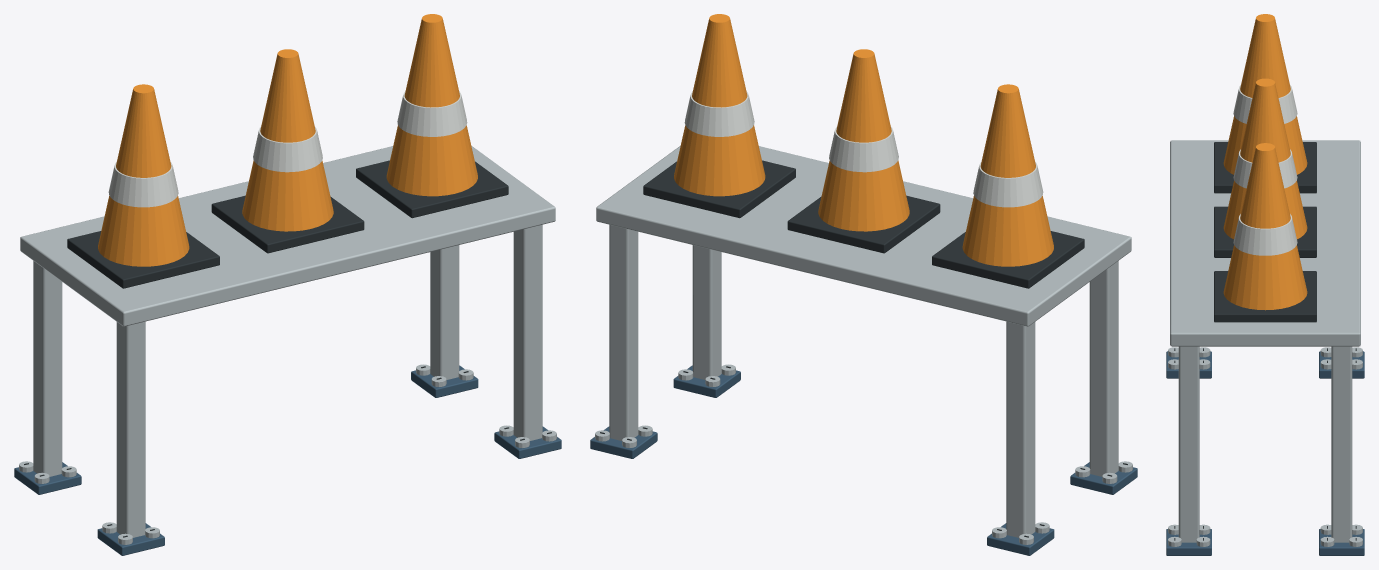
Rendered from container-inspection-and-customs-yard-container-inspec-daef00b1__29307.glb.
3 views of the same model, side by side, from view 1: azimuth 30°, elevation 25°; view 2: azimuth 150°, elevation 25°; view 3: azimuth 270°, elevation 25° (orthographic). The views are drawn at different scales.
Visible parts, largest first — view 1: container-inspection-and-customs-yard-road-cone-rack; view 2: container-inspection-and-customs-yard-road-cone-rack; view 3: container-inspection-and-customs-yard-road-cone-rack.
Part boxes in pixels (x1,y1,x2,y2): container-inspection-and-customs-yard-road-cone-rack: (14, 14, 561, 555); container-inspection-and-customs-yard-road-cone-rack: (590, 14, 1137, 555); container-inspection-and-customs-yard-road-cone-rack: (1166, 14, 1364, 555).
Size of the model in its own units: 1.22 by 1.09 by 0.52.
